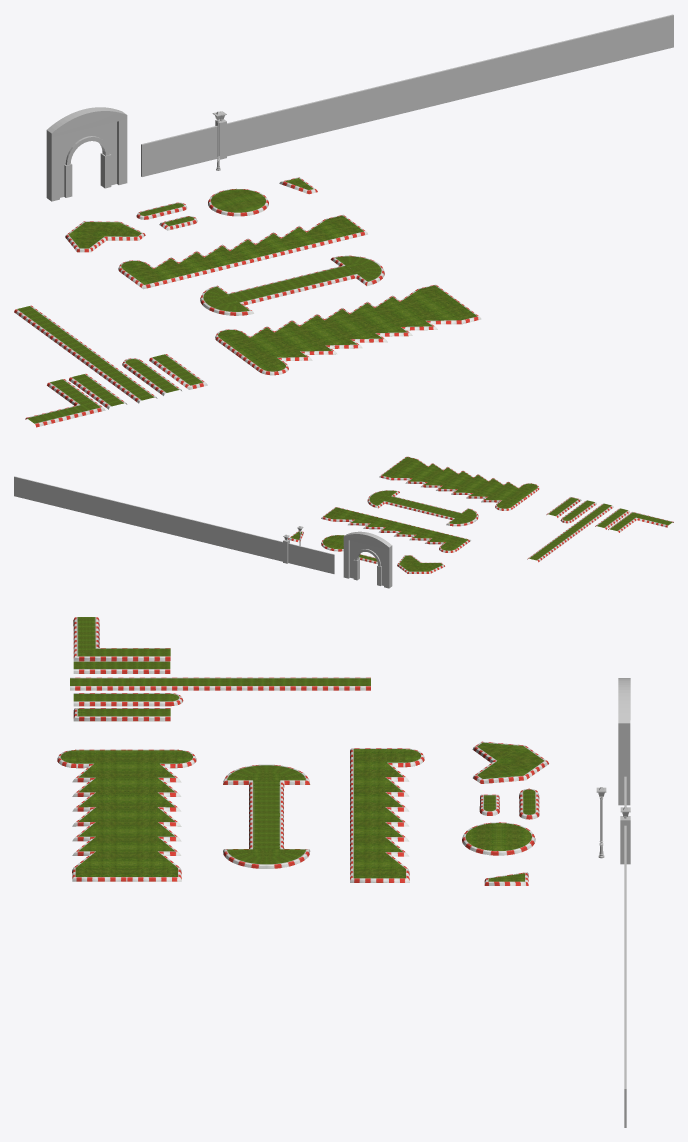
Rendered from Foot_path+Walls.FBX.
3 views of the same model, one above another, from view 1: azimuth 30°, elevation 25°; view 2: azimuth 150°, elevation 25°; view 3: azimuth 270°, elevation 25° (orthographic). The views are drawn at different scales.
Visible parts, largest first — view 1: Wall_no_2, Foot_path_1, Foot_path_3, Main_Gate, Foot_path_2, Wall_no_1, Foot_path_11, Foot_path_8, Foot_path_13, Foot_path_5, Foot_path_10, Foot_path_9 (+1 smaller); view 2: Wall_no_2, Foot_path_1, Foot_path_3, Main_Gate, Foot_path_2, Wall_no_1, Foot_path_11, Foot_path_8, Foot_path_13, Foot_path_10, Foot_path_5, Foot_path_12 (+1 smaller); view 3: Foot_path_1, Foot_path_3, Foot_path_2, Foot_path_11, Foot_path_8, Foot_path_13, Foot_path_5, Main_Gate, Foot_path_10, Foot_path_12, Foot_path_9, Wall_no_2.
Part boxes in pixels (<box>): Wall_no_2: <box>227,14,673,156</box>; Foot_path_1: <box>215,284,481,375</box>; Foot_path_3: <box>118,214,367,289</box>; Main_Gate: <box>46,107,127,201</box>; Foot_path_2: <box>200,255,384,315</box>; Wall_no_1: <box>141,126,217,176</box>; Foot_path_11: <box>14,305,157,403</box>; Foot_path_8: <box>65,221,145,252</box>; Foot_path_13: <box>25,379,105,427</box>; Foot_path_5: <box>208,188,268,216</box>; Foot_path_10: <box>122,358,181,395</box>; Foot_path_9: <box>149,354,207,389</box>; Wall_no_2: <box>14,476,282,561</box>; Foot_path_1: <box>379,456,539,510</box>; Foot_path_3: <box>321,507,470,552</box>; Main_Gate: <box>343,531,392,588</box>; Foot_path_2: <box>367,490,478,526</box>; Wall_no_1: <box>288,543,334,573</box>; Foot_path_11: <box>527,503,613,562</box>; Foot_path_8: <box>397,555,444,573</box>; Foot_path_13: <box>608,512,673,532</box>; Foot_path_10: <box>560,500,596,523</box>; Foot_path_5: <box>321,535,344,551</box>; Foot_path_12: <box>595,508,629,529</box>; Foot_path_1: <box>57,749,196,881</box>; Foot_path_3: <box>350,748,424,882</box>; Foot_path_2: <box>223,764,310,868</box>; Foot_path_11: <box>70,677,370,690</box>; Foot_path_8: <box>472,741,548,783</box>; Foot_path_13: <box>73,617,170,660</box>; Foot_path_5: <box>462,822,535,855</box>; Main_Gate: <box>618,678,630,805</box>; Foot_path_10: <box>73,693,183,706</box>; Foot_path_12: <box>73,660,170,673</box>; Foot_path_9: <box>73,708,170,721</box>; Wall_no_2: <box>624,825,626,1127</box>.
Bounding box in the file's own units: 1317 × 118 × 627.
